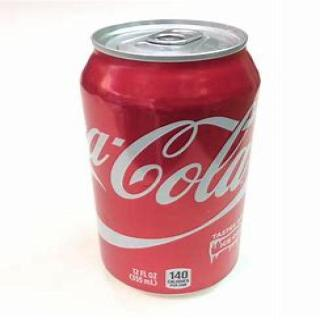Anorganik: (72, 12, 264, 300)
